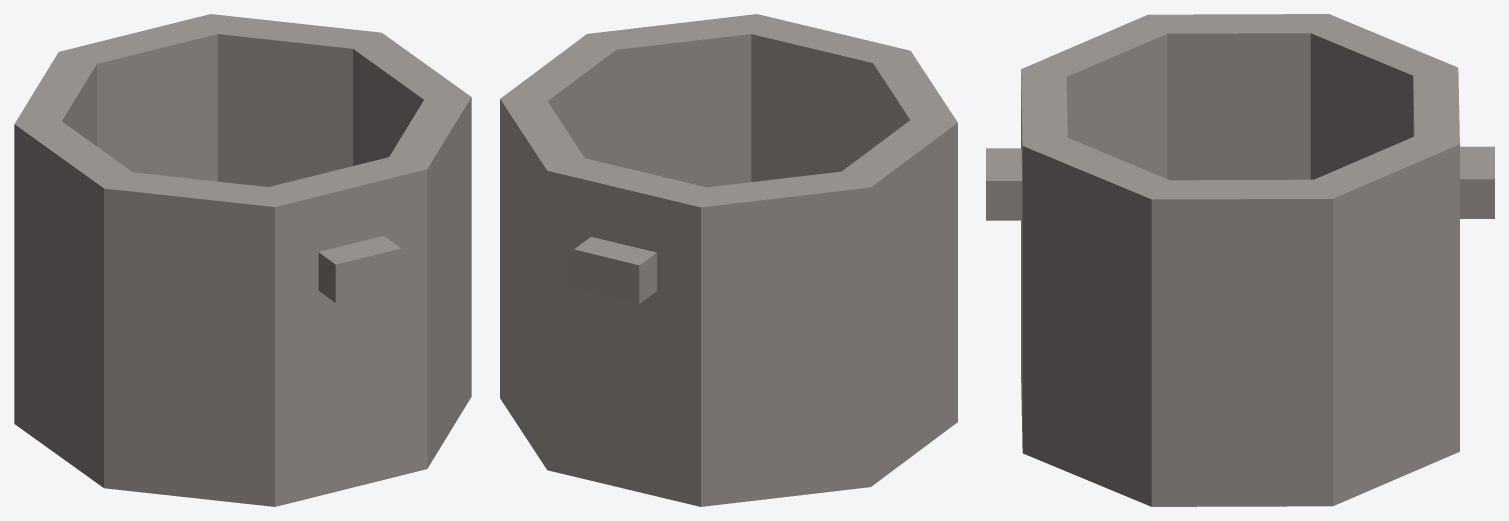
Rendered from cooking_pot.fbx.
3 renders of one model, left to right at view 1: azimuth 30°, elevation 25°; view 2: azimuth 150°, elevation 25°; view 3: azimuth 270°, elevation 25°, orthographic. The views are drawn at different scales.
Parts seen in each view (by area): view 1: Cylinder; view 2: Cylinder; view 3: Cylinder.
Part boxes in pixels (x1,y1,x2,y2): Cylinder: (14, 14, 471, 506); Cylinder: (500, 14, 957, 506); Cylinder: (986, 14, 1494, 506).
Size of the model in its own units: 54.87 by 47.34 by 36.59.
